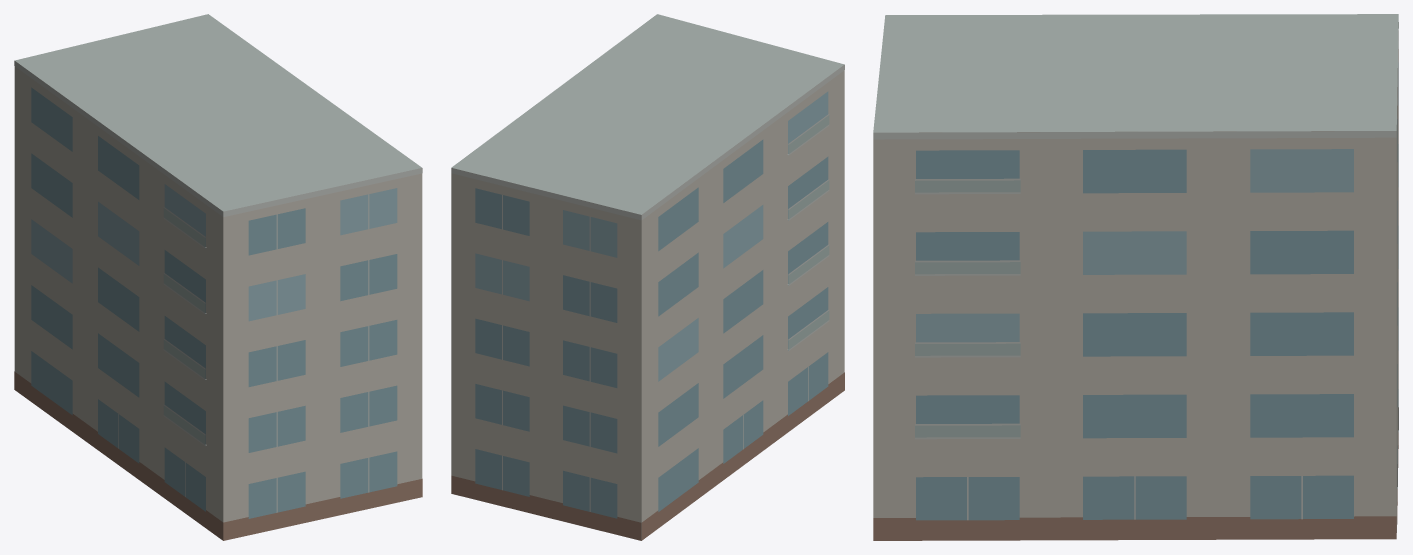
Rendered from survey-upis-32879808.glb.
3 renders of one model, left to right at view 1: azimuth 30°, elevation 25°; view 2: azimuth 150°, elevation 25°; view 3: azimuth 270°, elevation 25°, orthographic. The views are drawn at different scales.
Parts seen in each view (by area): view 1: survey-upis-32879808.tmp; view 2: survey-upis-32879808.tmp; view 3: survey-upis-32879808.tmp.
Boxes of the visible parts, x1=… form: survey-upis-32879808.tmp: x1=14, y1=14, x2=422, y2=540; survey-upis-32879808.tmp: x1=451, y1=14, x2=844, y2=540; survey-upis-32879808.tmp: x1=873, y1=14, x2=1398, y2=540.
Bounding box in the file's own units: 9 × 14.4 × 16.81.
